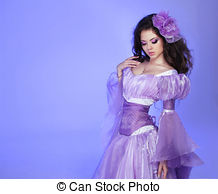face: (137, 21, 169, 60)
